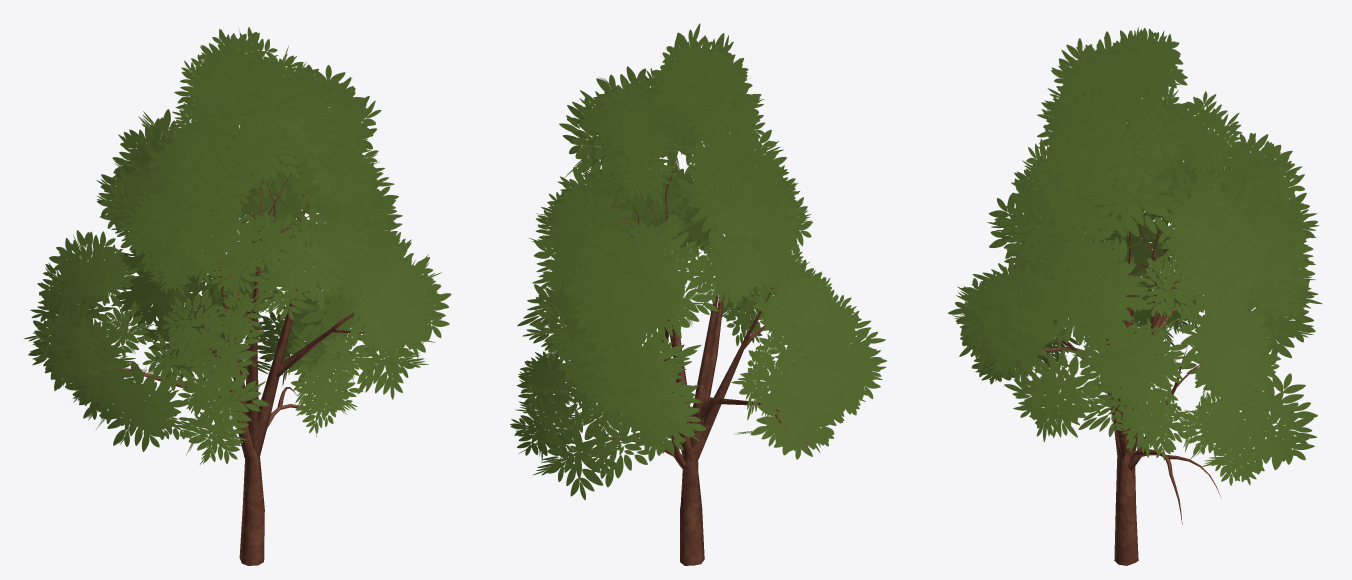
The model's file is Trees_V2.glb.
3 views of the same model, side by side, from view 1: azimuth 30°, elevation 25°; view 2: azimuth 150°, elevation 25°; view 3: azimuth 270°, elevation 25° (orthographic).
Parts seen in each view (by area): view 1: S_Tree_A; view 2: S_Tree_A; view 3: S_Tree_A.
Boxes of the visible parts, x1,y1,x2,y2 form: S_Tree_A: (24, 27, 451, 565); S_Tree_A: (509, 23, 886, 565); S_Tree_A: (948, 27, 1322, 565).
Size of the model in its own units: 5.21 by 7.42 by 5.04.
2 materials, 2 textured.
